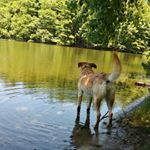puppy: (70, 49, 122, 138)
